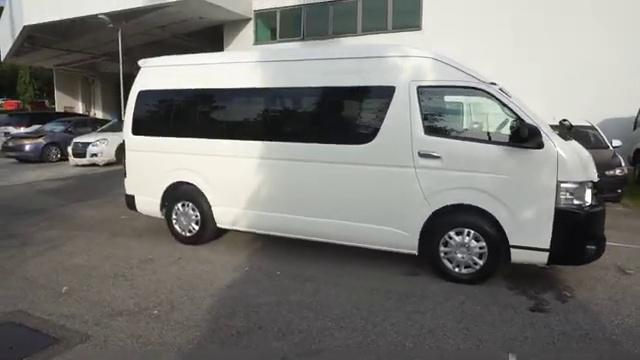van: (125, 42, 609, 283)
